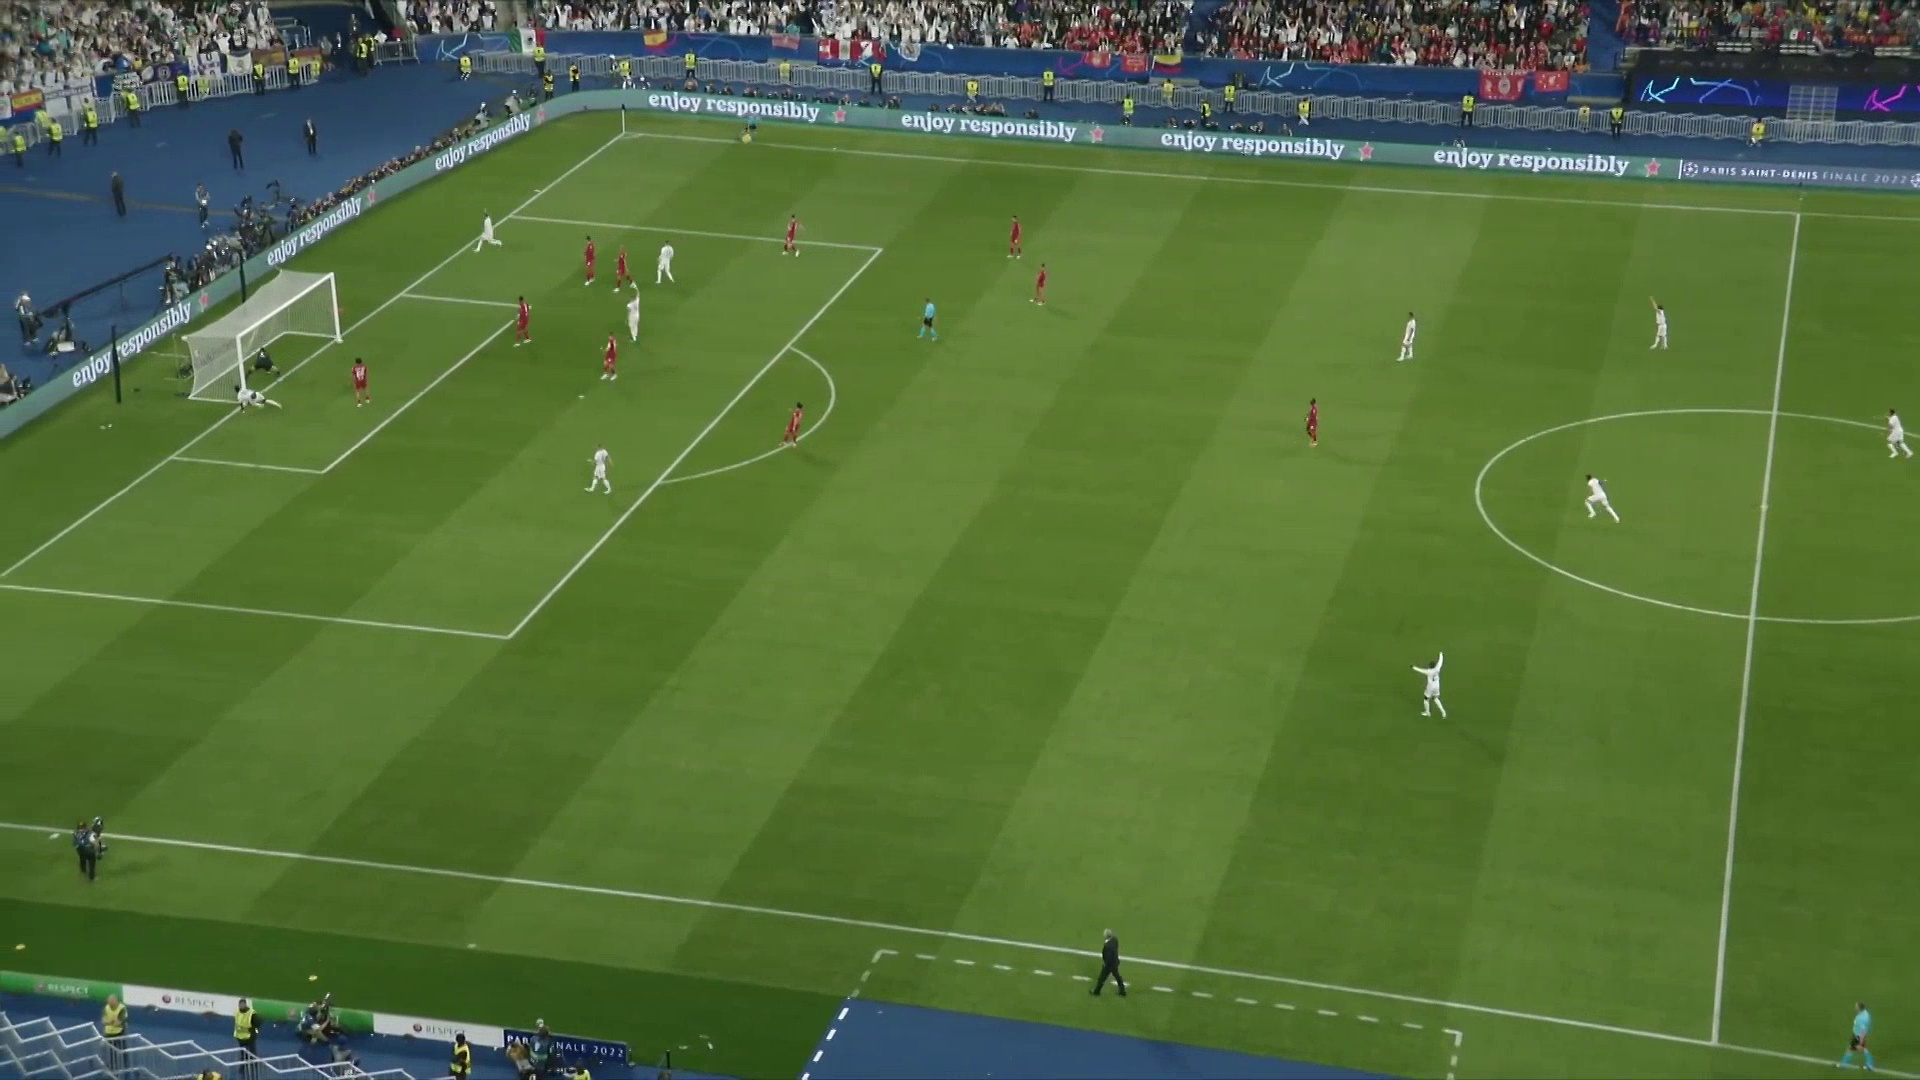player 1: (651, 243, 679, 287)
player 10: (1575, 459, 1631, 522)
player 11: (1399, 640, 1455, 728)
player 12: (248, 343, 285, 373)
player 13: (578, 218, 605, 280)
player 14: (341, 353, 381, 414)
player 15: (610, 239, 638, 291)
player 16: (504, 293, 541, 351)
player 17: (593, 325, 627, 388)
player 18: (1002, 202, 1026, 267)
player 19: (1032, 259, 1052, 317)
player 2: (470, 202, 504, 252)
player 20: (780, 202, 806, 257)
player 21: (1299, 394, 1334, 459)
player 22: (782, 392, 814, 457)
player 3: (222, 375, 284, 416)
player 4: (618, 284, 644, 336)
player 5: (580, 429, 618, 496)
player 7: (1394, 295, 1427, 375)
player 8: (1640, 291, 1681, 345)
player 9: (1873, 394, 1920, 470)
reffree: (912, 289, 952, 349)
